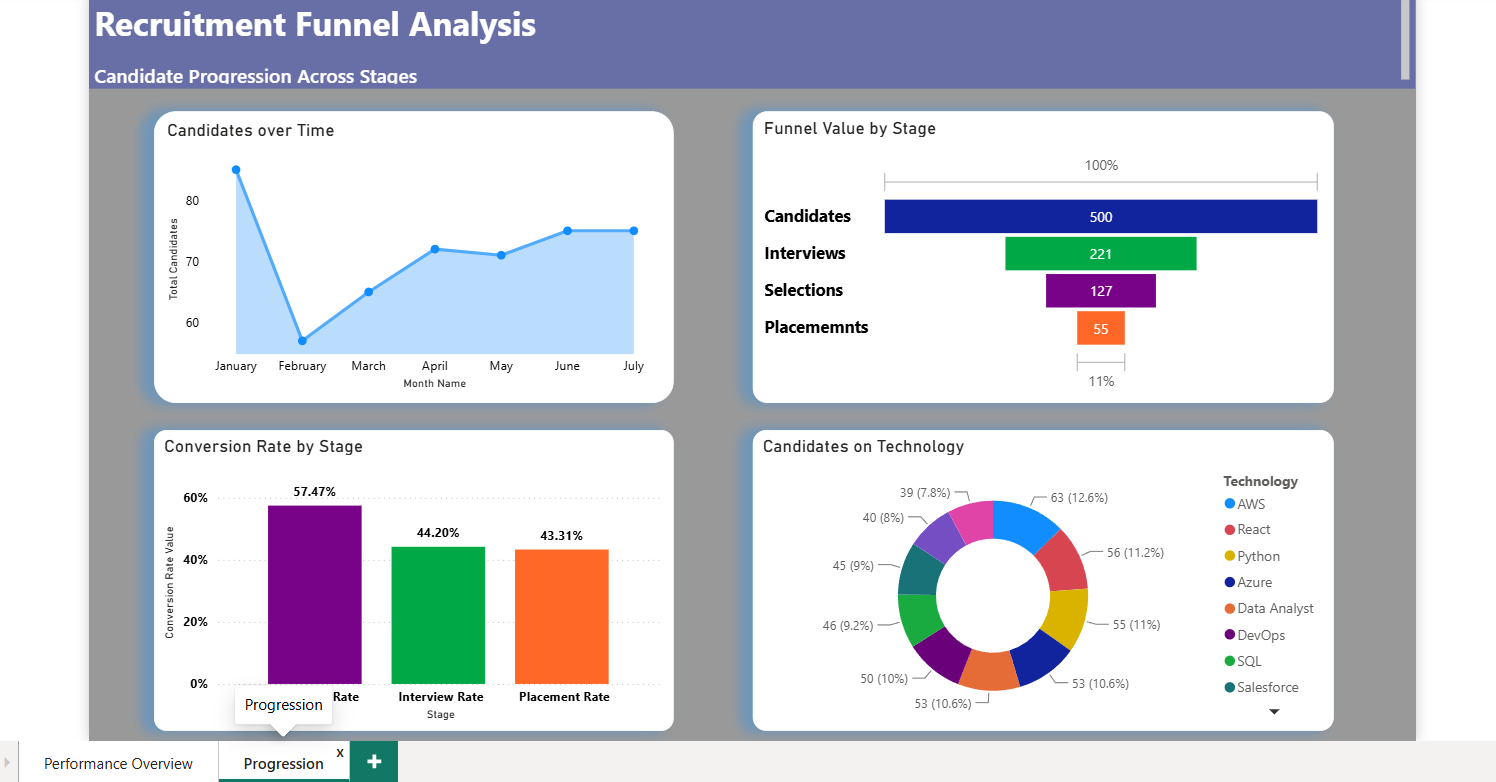

What the dashboard file says about the page in this screenshot:
{"tool":"powerbi","page":{"name":"Page 2","canvas":[1280,720],"ordinal":1},"visuals":[{"type":"areaChart","title":"Candidates over Time","fields":{"Category":["DateTable.Month Name"],"Y":["Candidates.Total Candidates"]},"box":[119.2,112.1,462.7,268.7],"z":0},{"type":"funnel","fields":{"Category":["RecruitmentStages.Stage"],"Y":["RecruitmentStages.Funnel Value"]},"box":[671,99.7,512.6,295.4],"z":2000},{"type":"textbox","box":[0,0,1279.7,90.8],"z":4000},{"type":"clusteredColumnChart","title":"Conversion Rate by Stage","fields":{"Category":["Conversion Stage.Stage"],"Y":["Candidates.Conversion Rate Value"]},"box":[389.8,427.1,463,269],"z":4001}]}

Visuals, with their boxes on the page's 1280x720 design canvas (x1, y1, x2, y2). These are canvas units, not pixel positions in the 1496x782 screenshot, which may show the page scaled, cropped or inside an application window:
"Candidates over Time" areaChart: 119/112/582/381
funnel - RecruitmentStages.Stage x RecruitmentStages.Funnel Value: 671/100/1184/395
textbox: 0/0/1280/91
"Conversion Rate by Stage" clusteredColumnChart: 390/427/853/696
